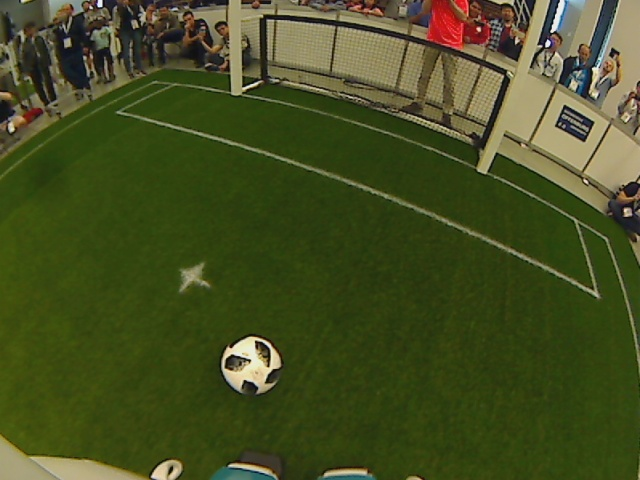ball: (216, 335, 287, 398)
goalpost: (222, 79, 250, 111), (470, 149, 495, 183)
